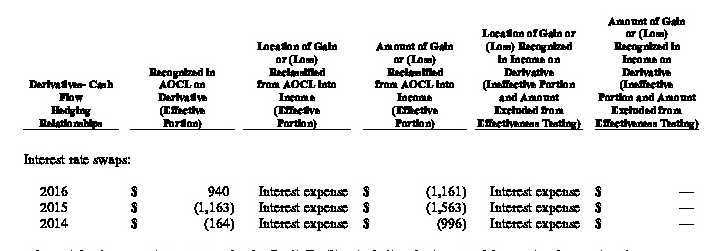table: (0, 0, 723, 251)
